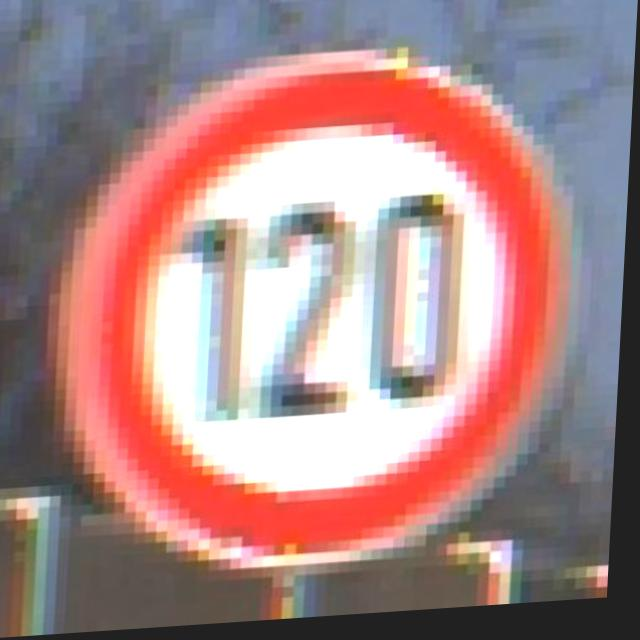limit120: (38, 35, 611, 592)
